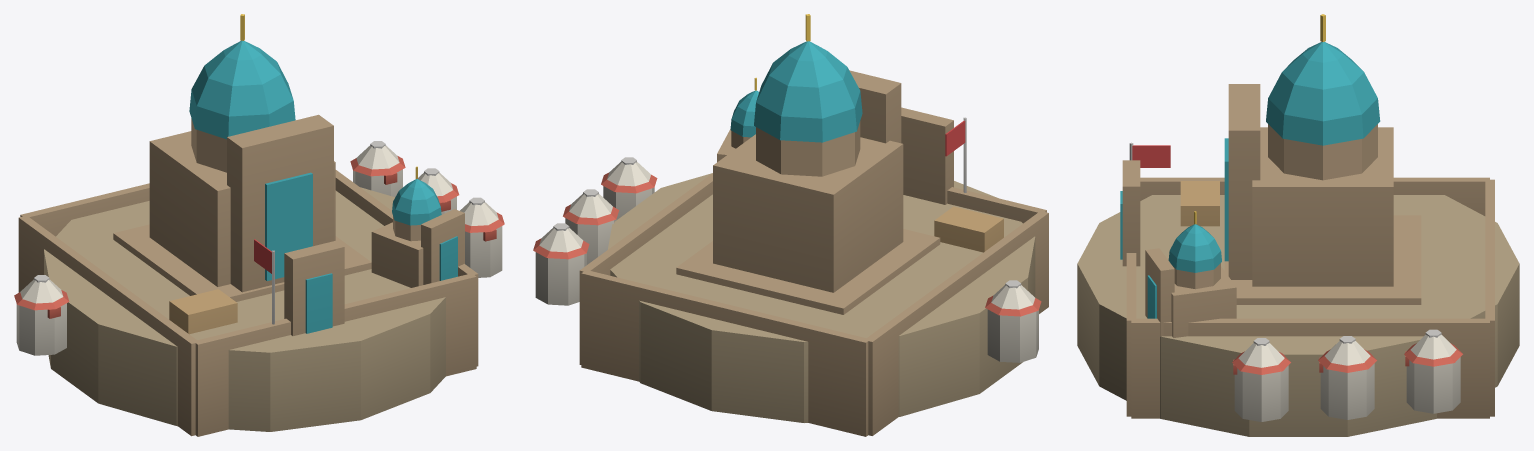
Rendered from abbey_steppe_a.glb.
3 renders of one model, left to right at view 1: azimuth 30°, elevation 25°; view 2: azimuth 150°, elevation 25°; view 3: azimuth 270°, elevation 25°, orthographic. The views are drawn at different scales.
Parts seen in each view (by area): view 1: abbey_steppe_a; view 2: abbey_steppe_a; view 3: abbey_steppe_a.
Boxes of the visible parts, left/top/right/bottom form: abbey_steppe_a: left=14, top=14, right=504, bottom=436; abbey_steppe_a: left=533, top=14, right=1048, bottom=436; abbey_steppe_a: left=1077, top=14, right=1519, bottom=436.
Size of the model in its own units: 2.22 by 1.49 by 1.8.
